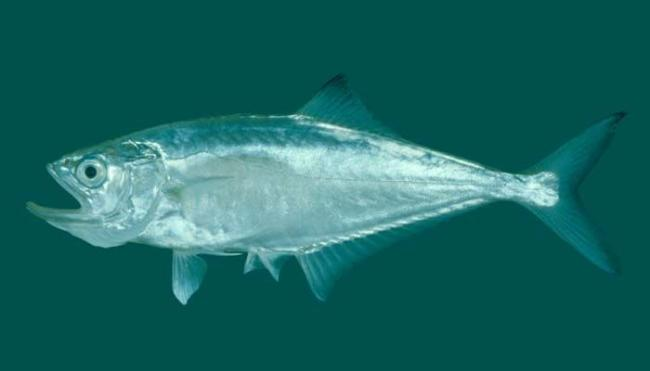fish: (25, 71, 628, 307)
